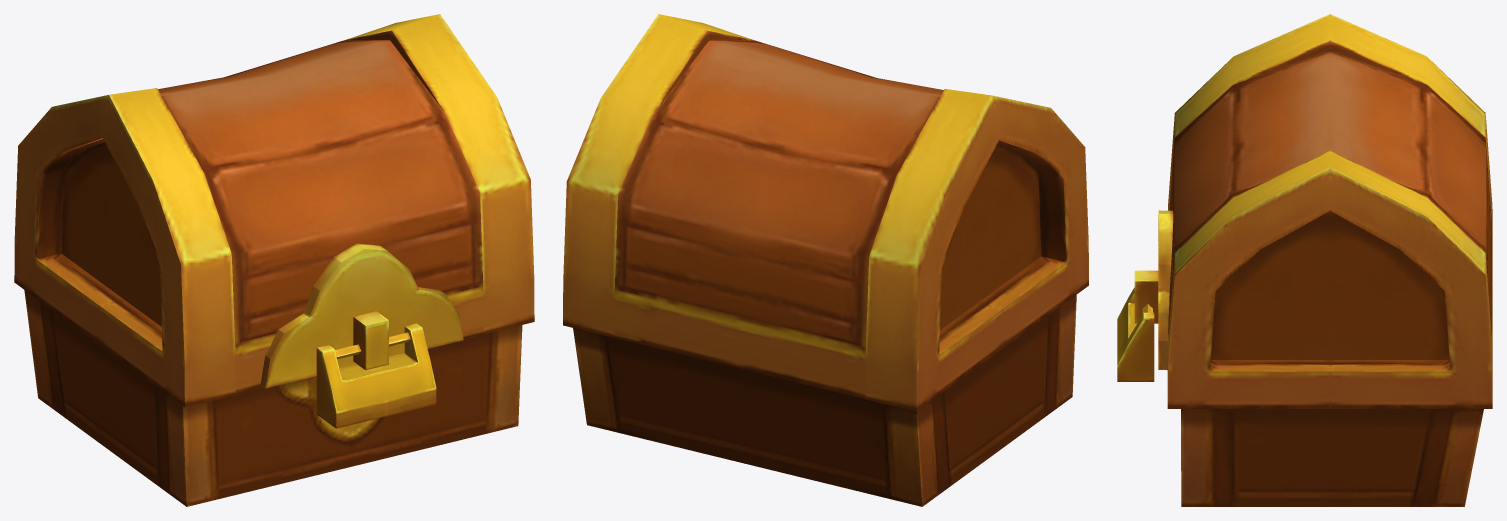
File: baoxiang.FBX
3 renders of one model, left to right at view 1: azimuth 30°, elevation 25°; view 2: azimuth 150°, elevation 25°; view 3: azimuth 270°, elevation 25°, orthographic. The views are drawn at different scales.
Visible parts, largest first — view 1: baoxiang; view 2: baoxiang; view 3: baoxiang.
Part boxes in pixels (<box>): baoxiang: <box>14,14,534,506</box>; baoxiang: <box>563,14,1088,506</box>; baoxiang: <box>1117,14,1492,506</box>.
Size of the model in its own units: 35.01 by 33.96 by 34.13.
